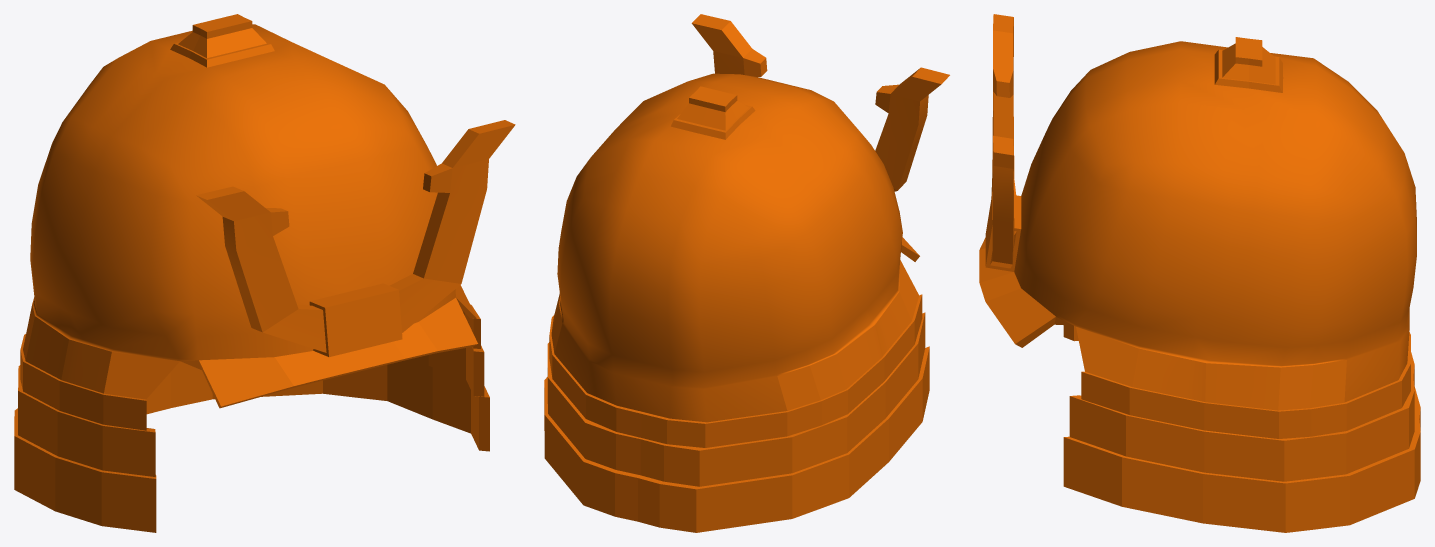
The model's file is Helmet.fbx.
3 views of the same model, side by side, from view 1: azimuth 30°, elevation 25°; view 2: azimuth 150°, elevation 25°; view 3: azimuth 270°, elevation 25° (orthographic). The views are drawn at different scales.
Parts seen in each view (by area): view 1: Guard_Armour; view 2: Guard_Armour; view 3: Guard_Armour.
Boxes of the visible parts, x1,y1,x2,y2 form: Guard_Armour: [14, 14, 515, 532]; Guard_Armour: [544, 14, 949, 532]; Guard_Armour: [979, 14, 1420, 532].
Size of the model in its own units: 72.42 by 82.69 by 78.37.
